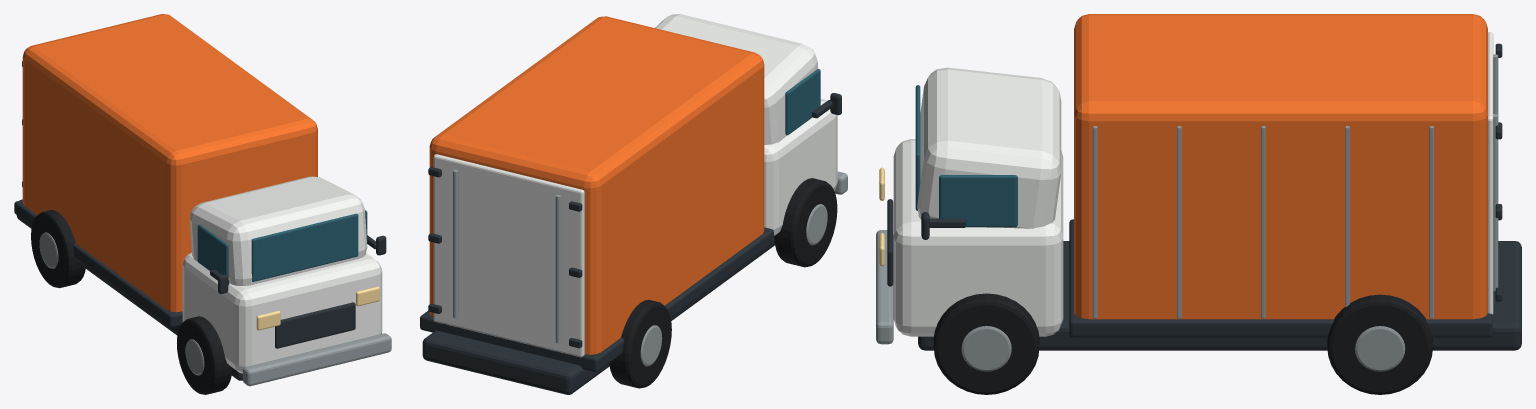
The model's file is fado_truck.glb.
The picture shows the model from 3 angles, left to right: view 1: azimuth 30°, elevation 25°; view 2: azimuth 150°, elevation 25°; view 3: azimuth 270°, elevation 25°; orthographic projection. The views are drawn at different scales.
Visible parts, largest first — view 1: BATCH_FADO Orange, BATCH_Body White, BATCH_Automotive Glass, BATCH_Chassis, BATCH_Tire Rubber, BATCH_Wheel Metal, BATCH_Lamp; view 2: BATCH_FADO Orange, BATCH_Body White, BATCH_Chassis, BATCH_Tire Rubber, BATCH_Wheel Metal, BATCH_Automotive Glass; view 3: BATCH_FADO Orange, BATCH_Body White, BATCH_Chassis, BATCH_Tire Rubber, BATCH_Wheel Metal, BATCH_Automotive Glass.
Part boxes in pixels (x1,y1,x2,y2): BATCH_FADO Orange: [22, 14, 317, 312]; BATCH_Body White: [182, 176, 382, 373]; BATCH_Automotive Glass: [197, 210, 367, 281]; BATCH_Chassis: [14, 61, 386, 380]; BATCH_Tire Rubber: [31, 210, 381, 394]; BATCH_Wheel Metal: [39, 232, 391, 386]; BATCH_Lamp: [256, 286, 379, 330]; BATCH_FADO Orange: [429, 16, 764, 354]; BATCH_Body White: [433, 14, 837, 357]; BATCH_Chassis: [420, 93, 841, 394]; BATCH_Tire Rubber: [609, 178, 837, 388]; BATCH_Wheel Metal: [453, 169, 847, 366]; BATCH_Automotive Glass: [785, 69, 820, 135]; BATCH_FADO Orange: [1074, 14, 1487, 319]; BATCH_Body White: [893, 32, 1493, 336]; BATCH_Chassis: [887, 43, 1521, 350]; BATCH_Tire Rubber: [933, 293, 1432, 394]; BATCH_Wheel Metal: [876, 54, 1498, 371]; BATCH_Automotive Glass: [915, 85, 1017, 227].
Size of the model in its own units: 1.96 by 2.3 by 4.76.
